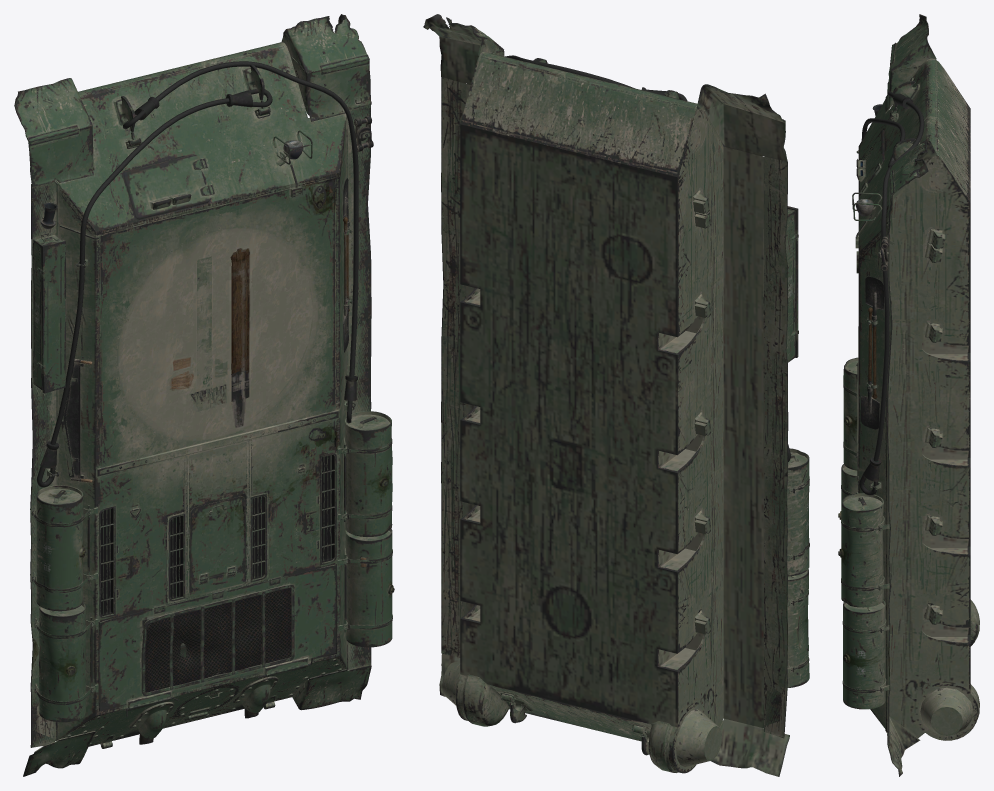
File: Hull.glb
3 views of the same model, side by side, from view 1: azimuth 30°, elevation 25°; view 2: azimuth 150°, elevation 25°; view 3: azimuth 270°, elevation 25° (orthographic). The views are drawn at different scales.
Parts seen in each view (by area): view 1: set_0_group_0; view 2: set_0_group_0; view 3: set_0_group_0.
Part boxes in pixels (box(x1,y1,x2,y2)): set_0_group_0: box(14, 14, 394, 776); set_0_group_0: box(423, 14, 809, 776); set_0_group_0: box(838, 14, 979, 776).
Size of the model in its own units: 3.02 by 5.6 by 1.16.
1 material, 1 textured.
